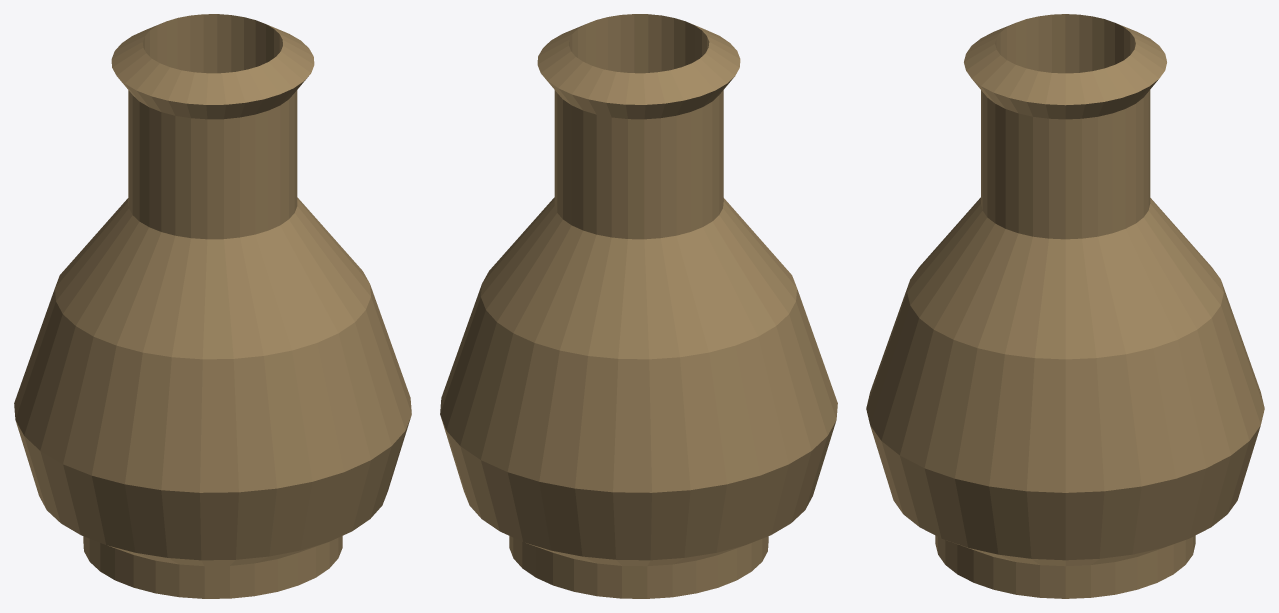
The model's file is Vase_3.glb.
The picture shows the model from 3 angles, left to right: view 1: azimuth 30°, elevation 25°; view 2: azimuth 150°, elevation 25°; view 3: azimuth 270°, elevation 25°; orthographic projection.
Visible parts, largest first — view 1: vase_3.001; view 2: vase_3.001; view 3: vase_3.001.
Part boxes in pixels (bbox=[...]): vase_3.001: bbox=[14, 14, 411, 598]; vase_3.001: bbox=[440, 14, 837, 598]; vase_3.001: bbox=[866, 14, 1264, 598].
Bounding box in the file's own units: 0.6995 × 0.9686 × 0.6995.
